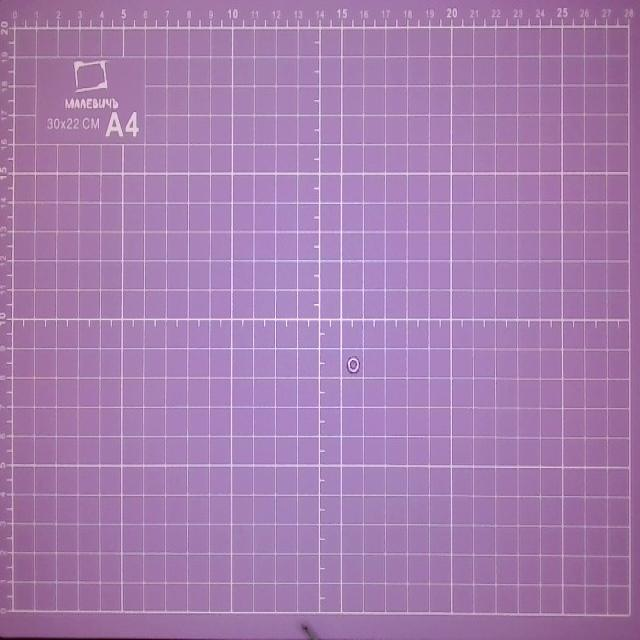screw_M3: (346, 354, 361, 376)
